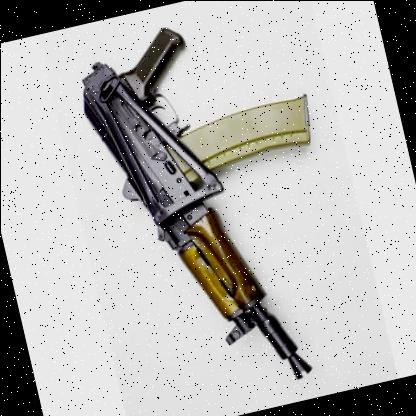rifle: (51, 0, 381, 416)
